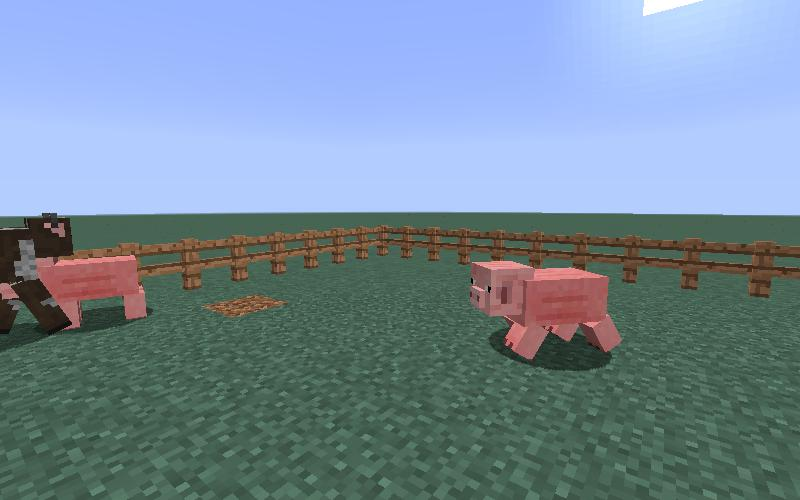cow: (1, 213, 74, 332)
pig: (465, 258, 626, 367), (42, 256, 148, 329)
